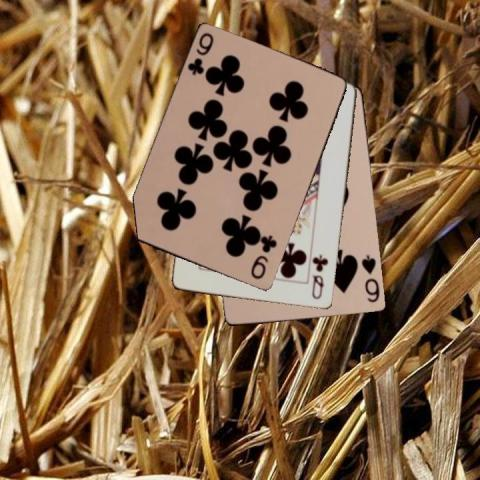6s: (359, 252, 381, 304)
9c: (248, 232, 279, 281), (185, 30, 215, 77)
Qc: (309, 252, 330, 302)
